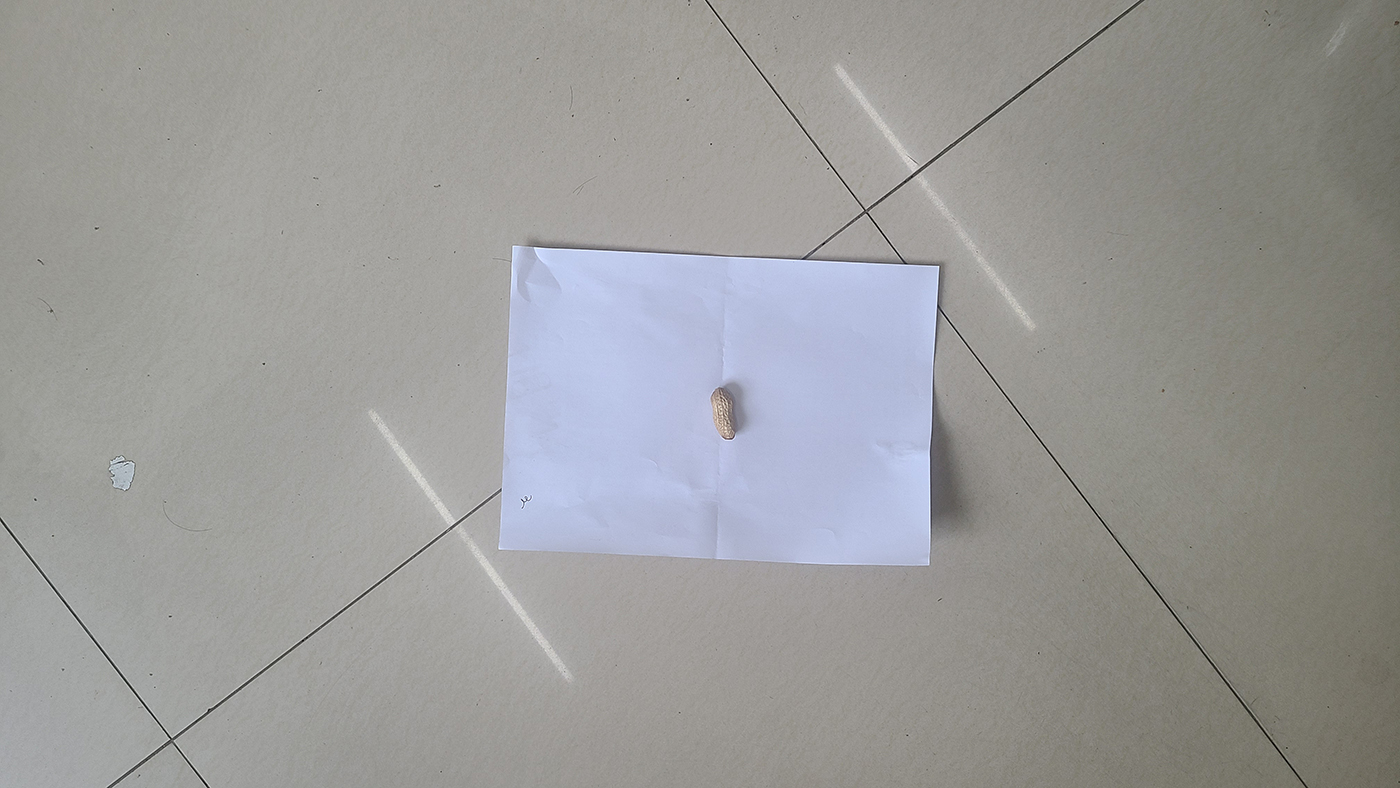h: (709, 386, 738, 443)
